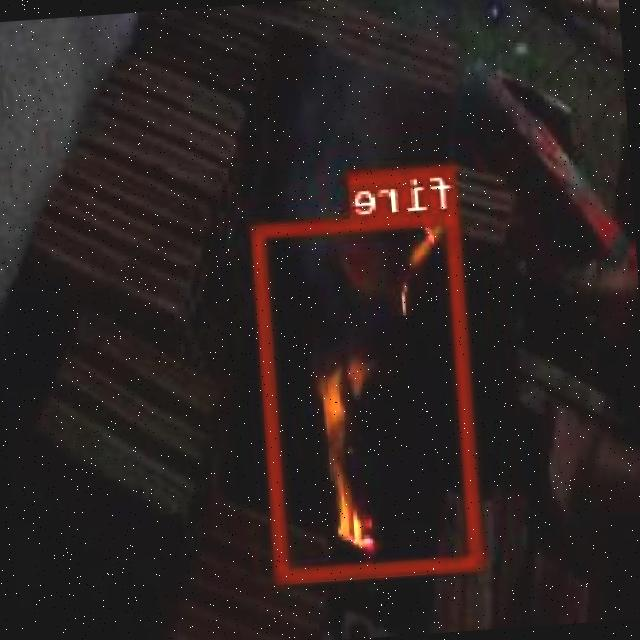fire: (255, 206, 486, 578)
